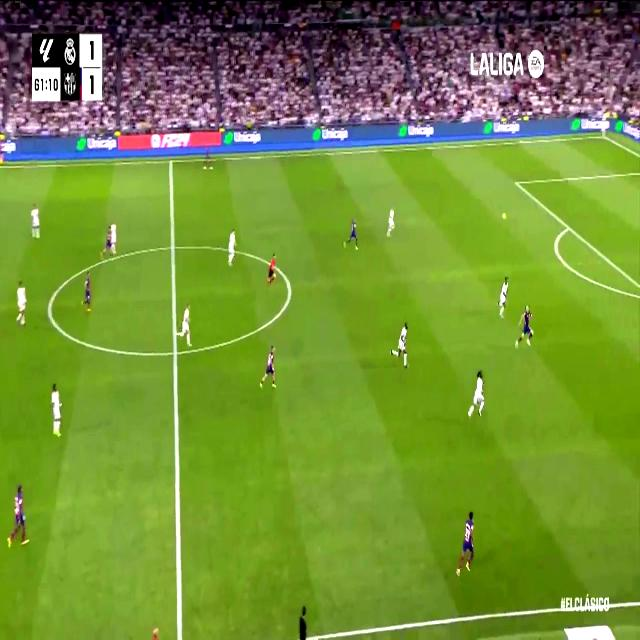bigarea_top_inner: (514, 176, 519, 189)
corner: (599, 131, 607, 141)
halfcircle_bottom: (169, 338, 181, 368)
halfcircle_top: (166, 232, 180, 262)
midline_top_intersection: (166, 154, 176, 171)
top_arc_area_intersection: (564, 218, 572, 235)
